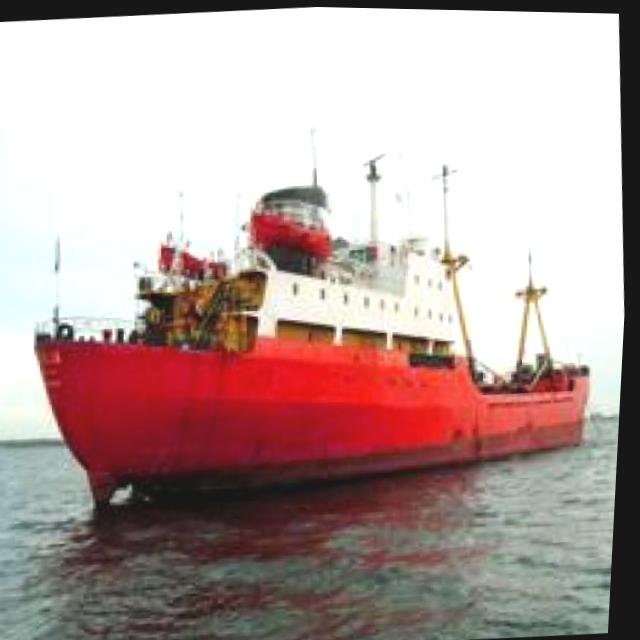ship2: (40, 119, 598, 501)
